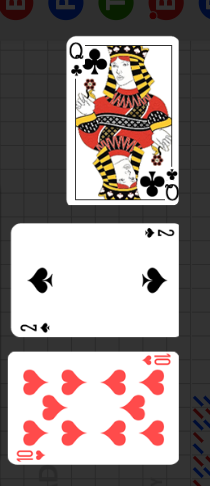10H: (15, 448, 48, 462)
2S: (142, 226, 176, 240)
9C: (68, 40, 85, 78)
